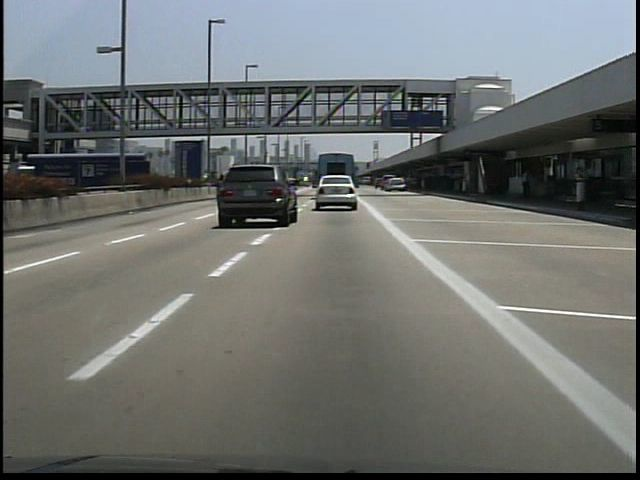person: (516, 168, 537, 205)
